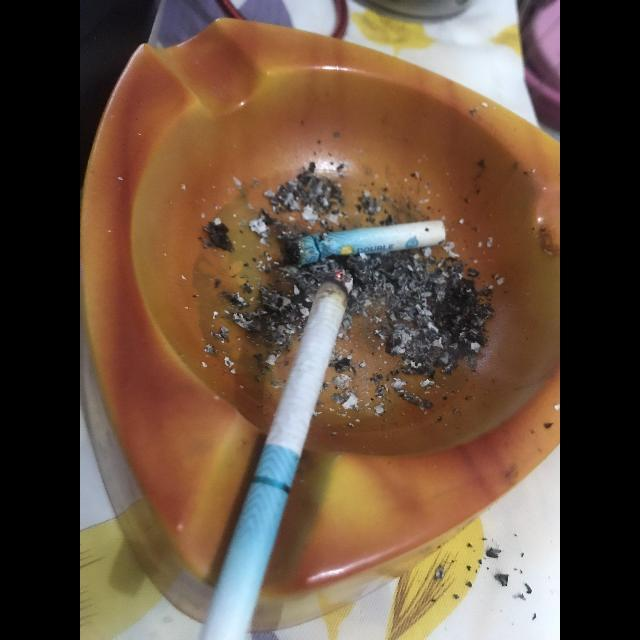rokok: (213, 266, 351, 628), (292, 220, 448, 260)
